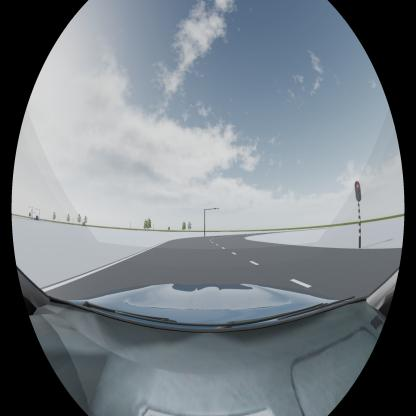Red Light: (354, 180, 362, 203)
